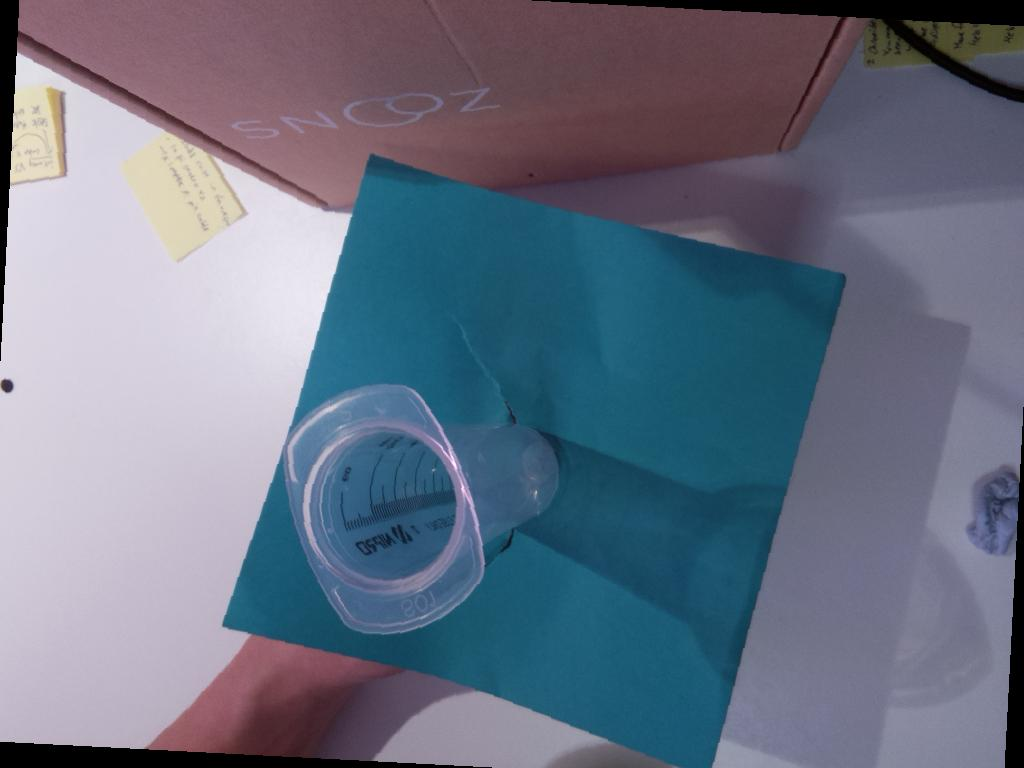clean: (276, 381, 486, 640)
